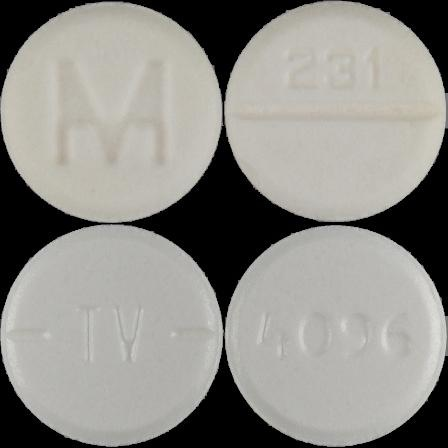76237-116: (0, 0, 224, 224)
